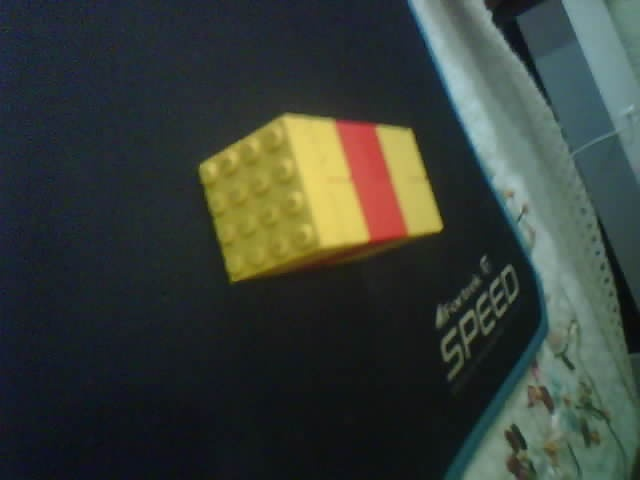lego: (197, 112, 444, 285)
